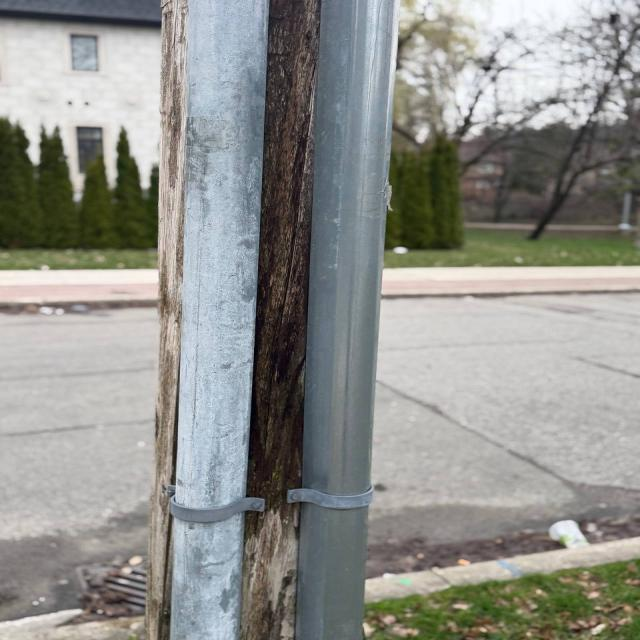Electrical Pole: (144, 2, 405, 638)
